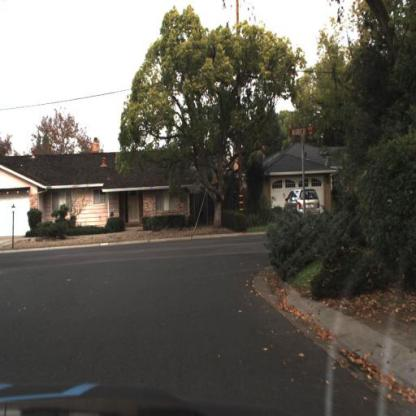car: (285, 189, 321, 219)
